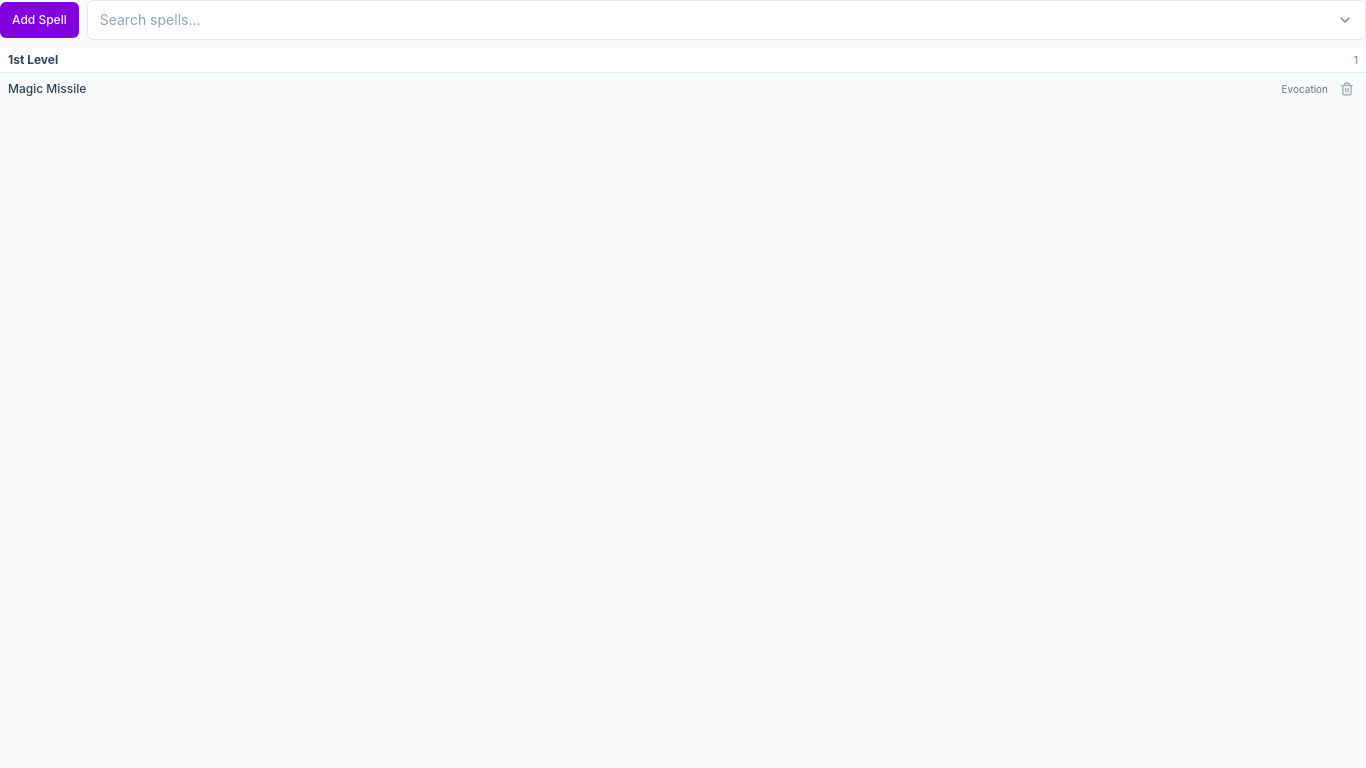
Scenario: WizardSpellbookManager › clicking a spell name opens the detail dialog
Click the text "Magic Missile": (47, 88) [8,81,86,96]
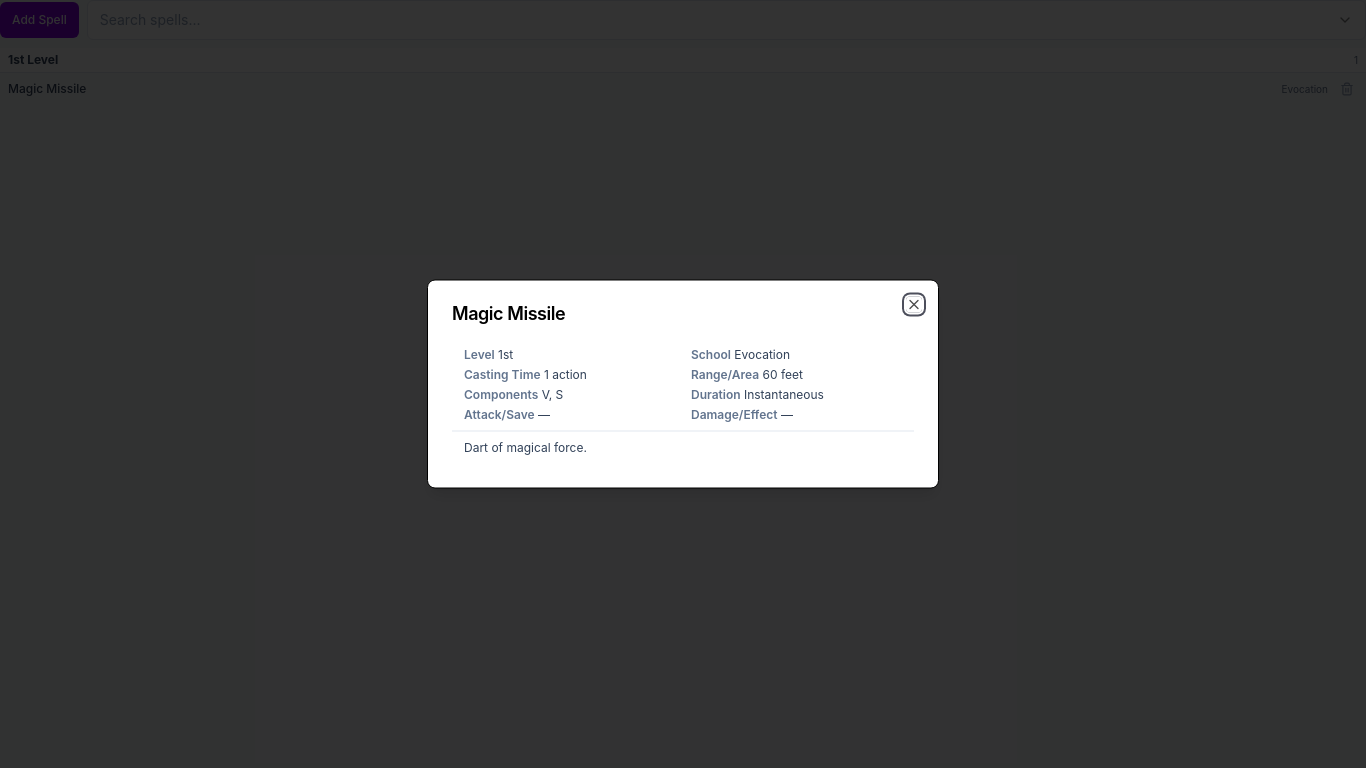
Check: the dialog is shown, box [427,280,939,488]
Check: the heading "Magic Missile" is shown, box [452,302,565,324]
Check: the text "Dart of magical force." is shown, box [464,440,587,454]
